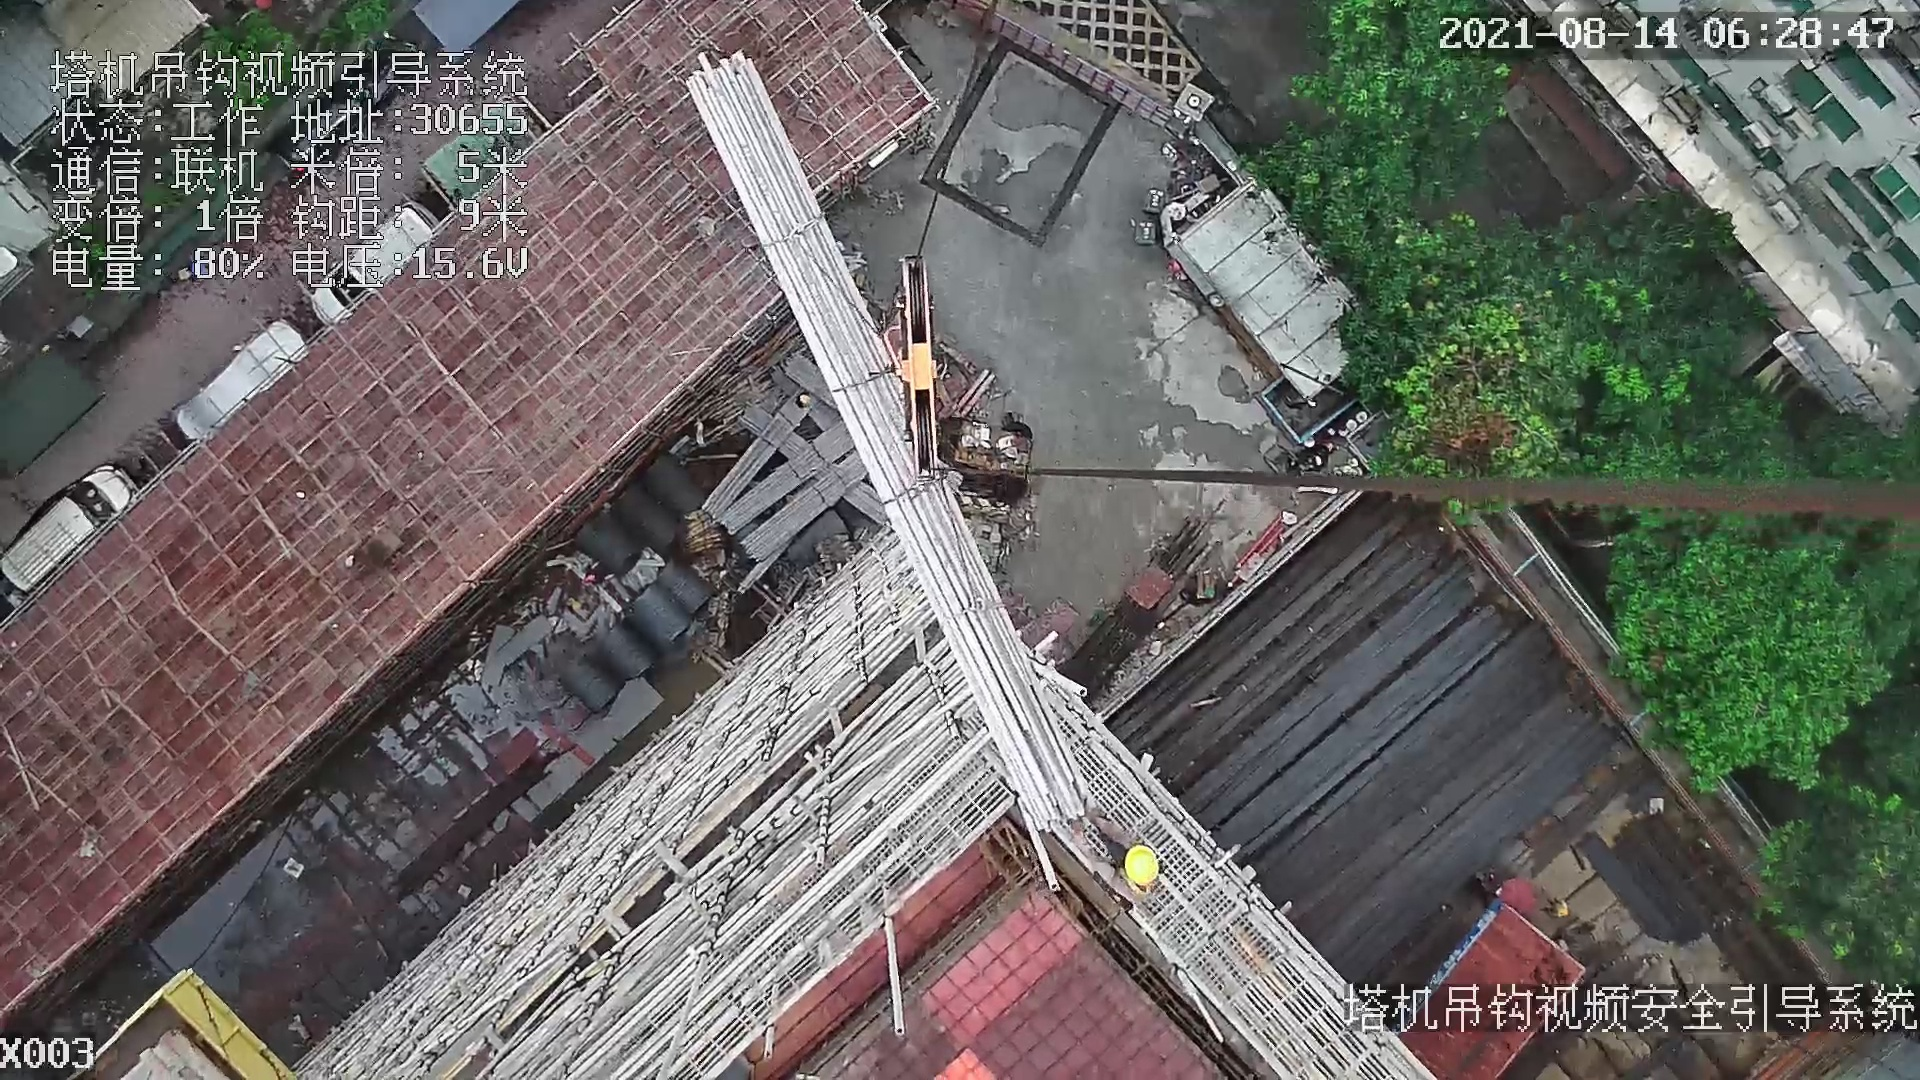helmet: (1113, 846, 1164, 891)
hook: (897, 255, 941, 488)
person: (1076, 808, 1163, 910)
